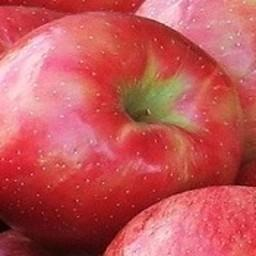apple: (0, 7, 251, 253)
